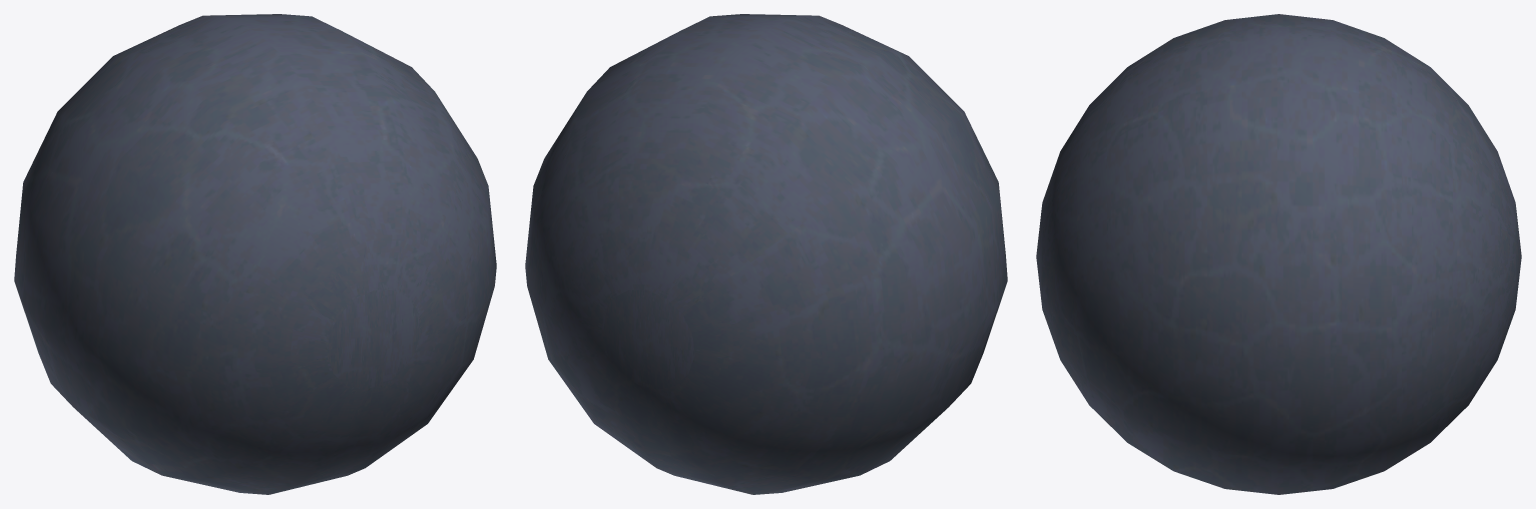
Rendered from ball.fbx.
3 views of the same model, side by side, from view 1: azimuth 30°, elevation 25°; view 2: azimuth 150°, elevation 25°; view 3: azimuth 270°, elevation 25° (orthographic).
Visible parts, largest first — view 1: node_id30; view 2: node_id30; view 3: node_id30.
Part boxes in pixels (left/top/right/bottom): node_id30: left=14, top=14, right=496, bottom=494; node_id30: left=525, top=14, right=1007, bottom=494; node_id30: left=1036, top=14, right=1521, bottom=494.
Size of the model in its own units: 0.512 by 0.5092 by 0.5148.
1 material, 1 textured.
